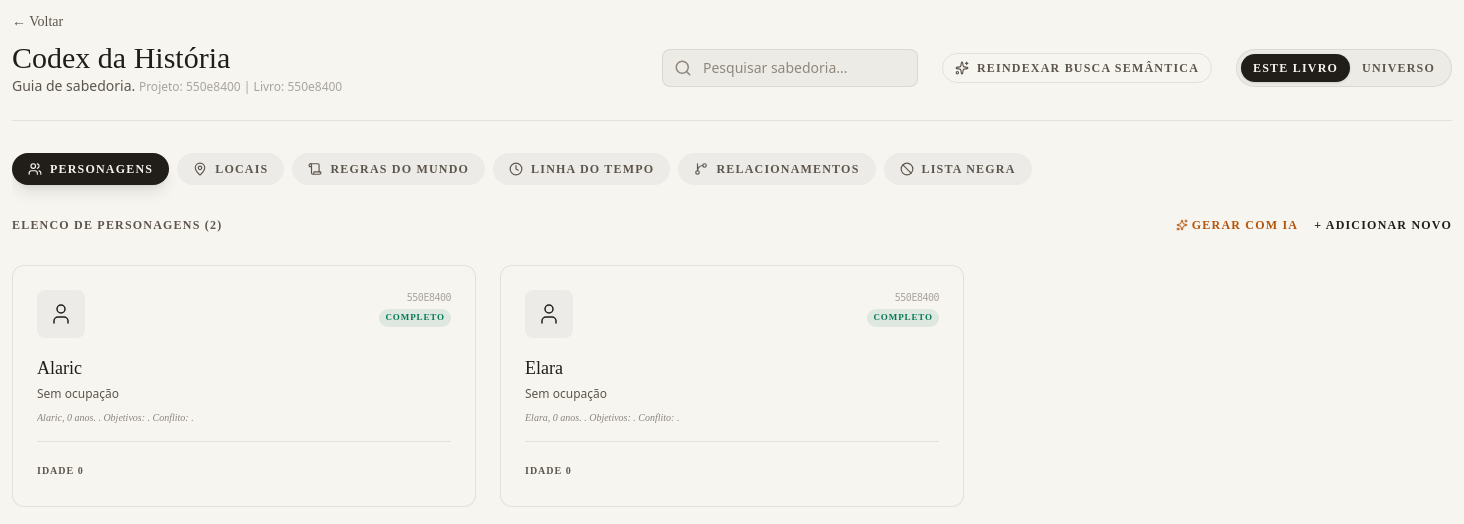
CodexDashboard Integration › should correctly switch between tabs and load corresponding lore
The width and height of the screenshot is (1464, 524).
What coordinates should you click on to do the following:
click the button "Regras do Mundo"
I would click on:
 (389, 169)
Its box is 292,153 -> 485,185.
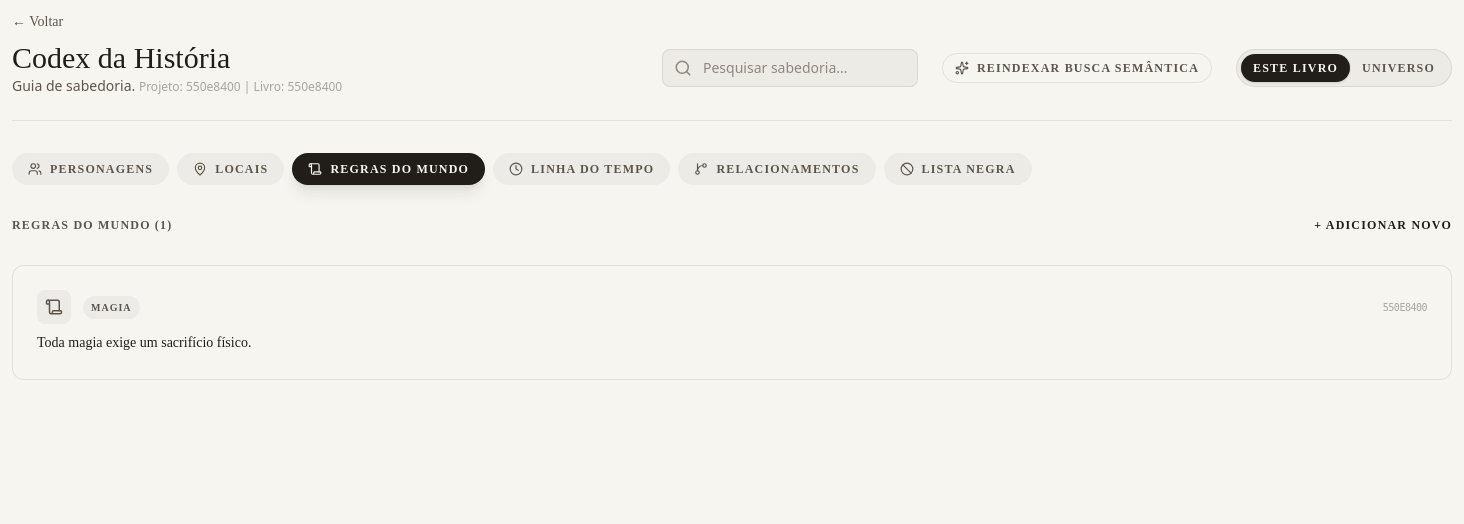
Result: the text "Magia" is shown at 83,296 -> 140,318
What coordinates should you click on to do the following:
click the button "Linha do Tempo"
I would click on:
 (582, 169)
Its box is 493,153 -> 670,185.
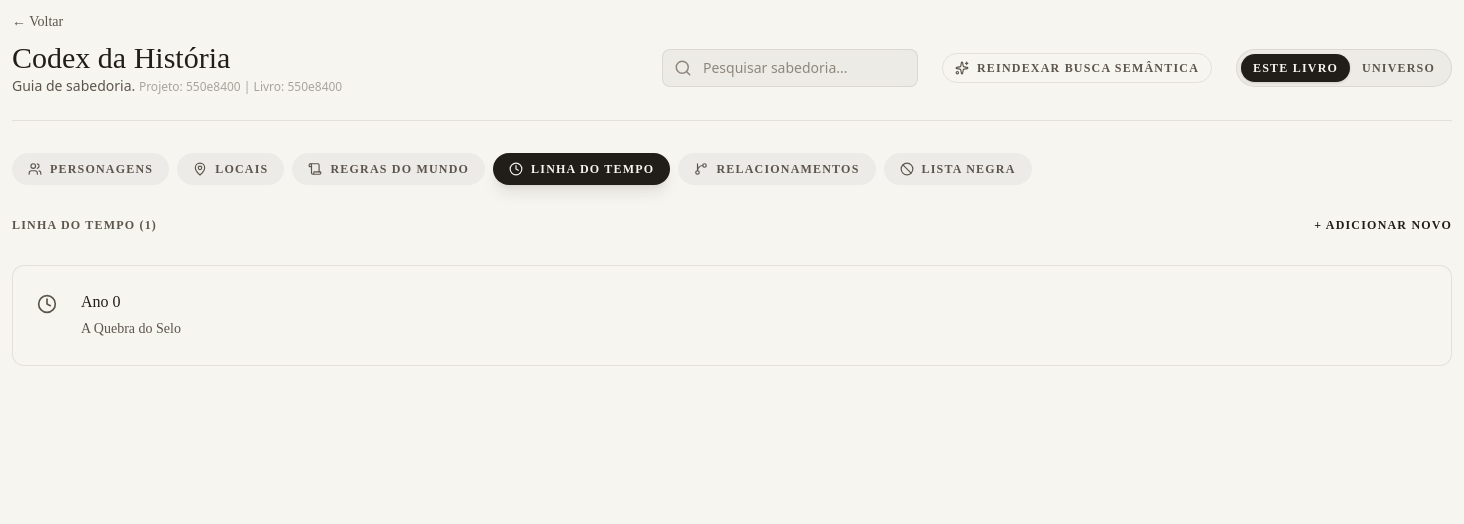
Result: the text "A Quebra do Selo" is shown at 81,318 -> 185,341
What coordinates should you click on to do the following:
click the button "Relacionamentos"
I would click on:
 (777, 169)
Its box is 678,153 -> 876,185.
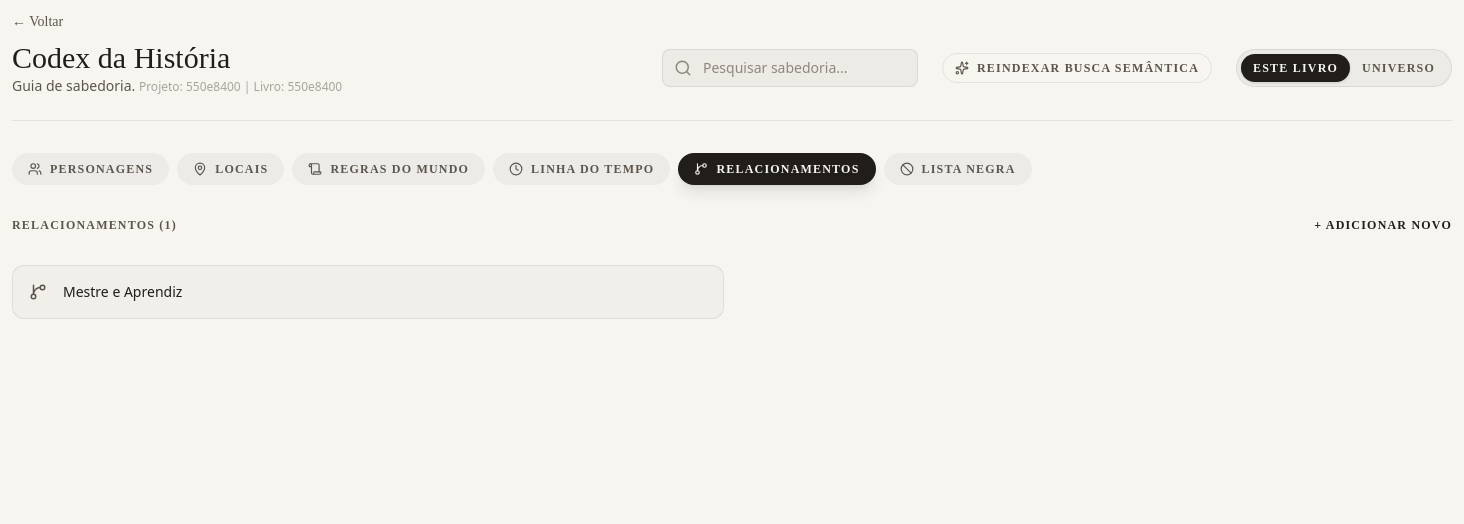
Result: the text "Mestre e Aprendiz" is shown at 63,282 -> 182,301
What coordinates should you click on to do the following:
click the button "Lista Negra"
I would click on:
 (958, 169)
Its box is 884,153 -> 1032,185.
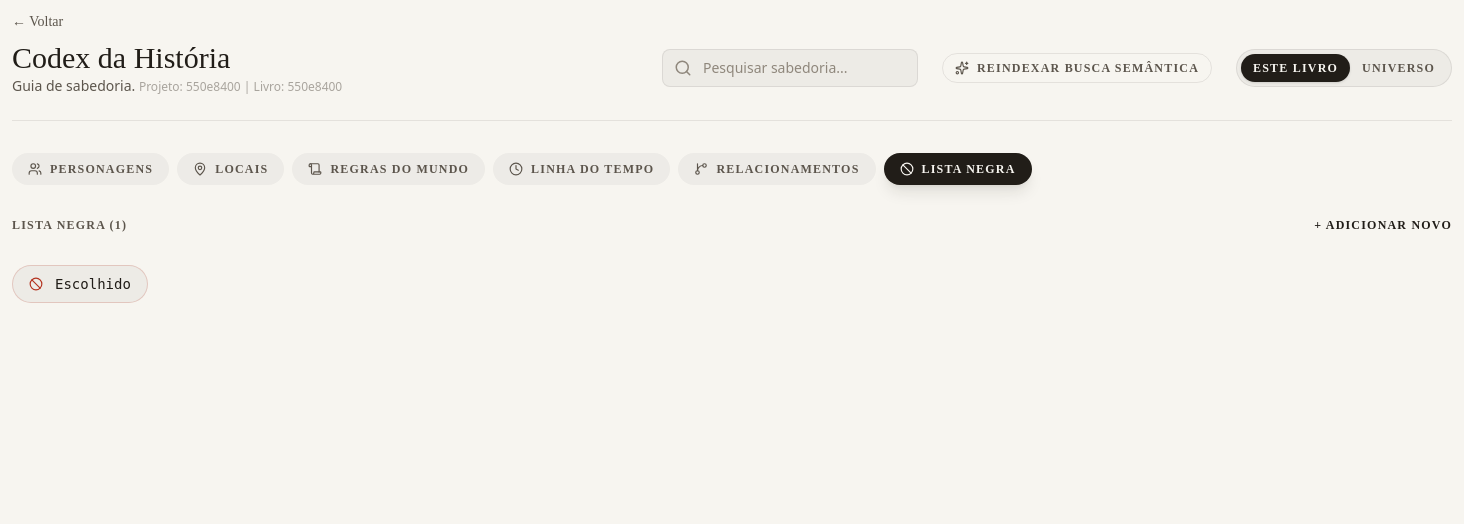
Result: the text "Escolhido" is shown at 55,274 -> 131,294
